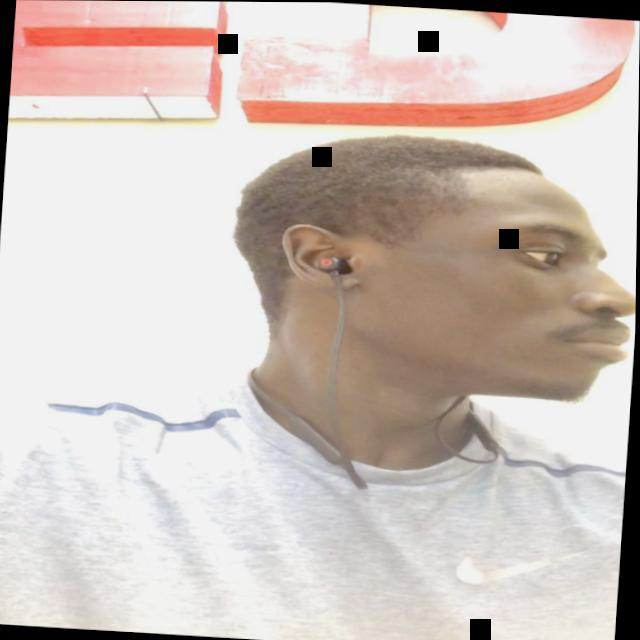NO-Mask: (294, 154, 638, 408)
